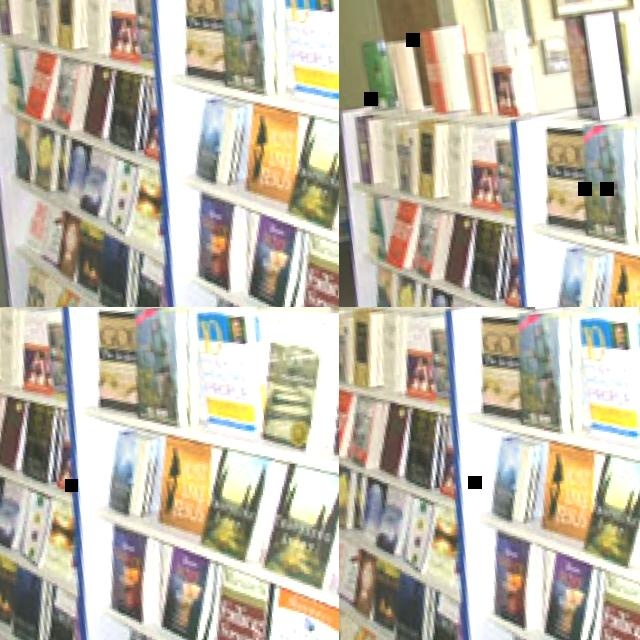NO-Mask: (167, 341, 319, 425)
NO-Safety Vest: (125, 346, 339, 541)
Person: (26, 307, 339, 640), (0, 462, 339, 640)
